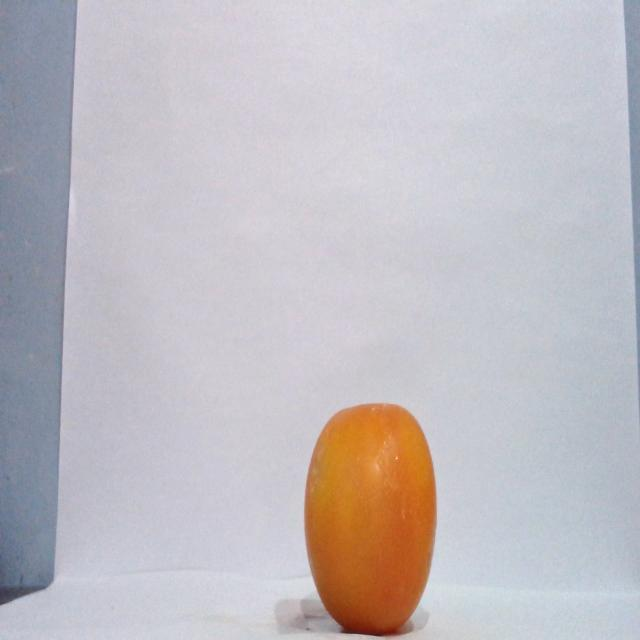Red: (302, 401, 438, 635)
